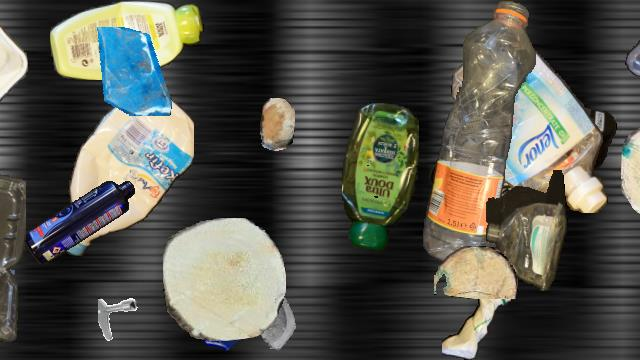glass: (88, 27, 176, 115), (233, 282, 309, 358), (193, 288, 255, 350), (0, 240, 15, 316)
metal: (98, 296, 158, 356)
plastic: (423, 1, 535, 265), (450, 40, 610, 212), (429, 111, 617, 247), (64, 86, 194, 260), (50, 1, 204, 79), (342, 103, 418, 251), (486, 170, 568, 292), (24, 181, 134, 263), (442, 275, 510, 359), (0, 157, 25, 359), (0, 21, 29, 133), (625, 29, 640, 115), (636, 221, 640, 359)
wood: (163, 218, 285, 340), (434, 246, 518, 298), (621, 124, 640, 222), (260, 98, 294, 150)
